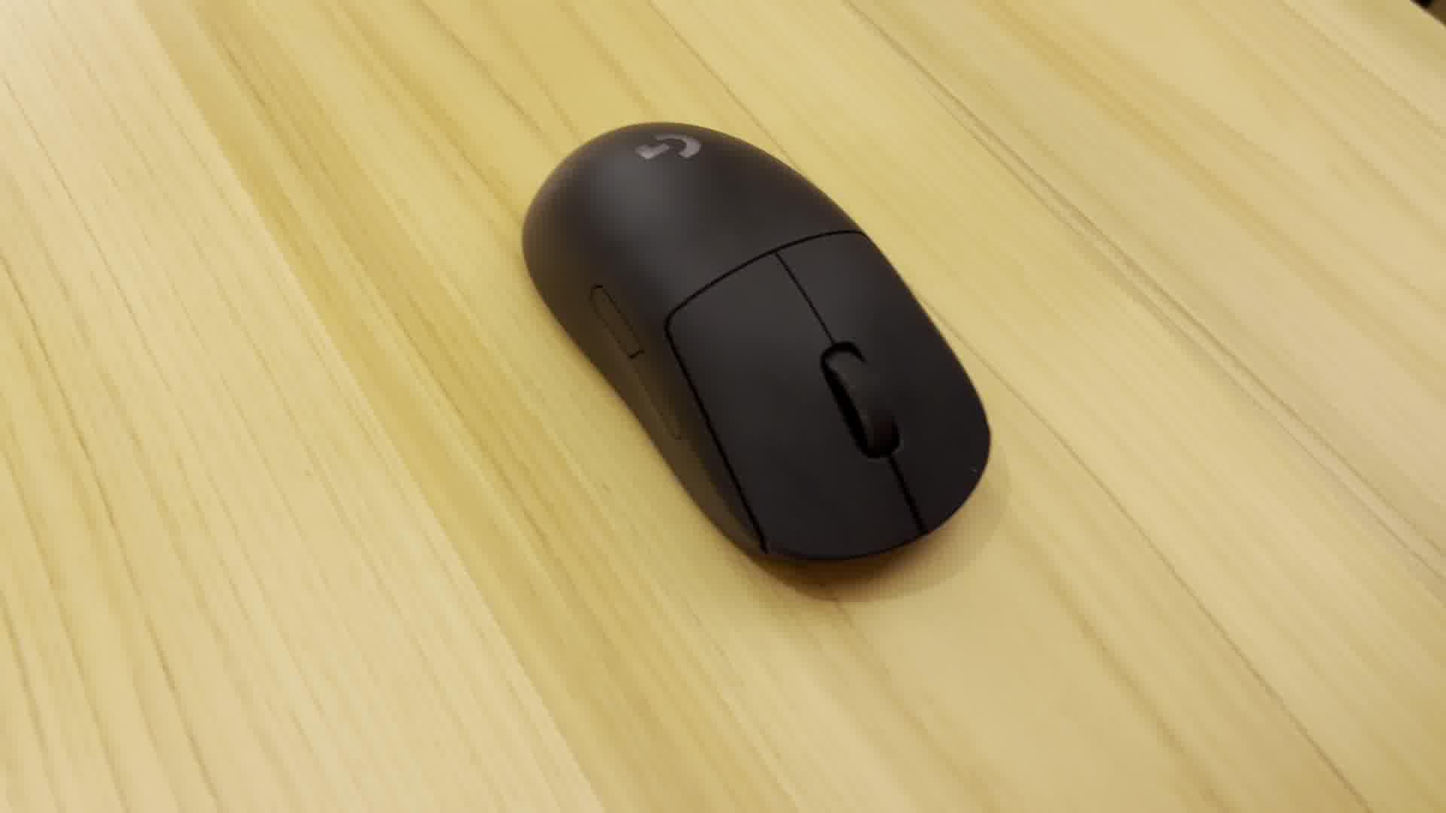logicool: (514, 110, 1003, 581)
